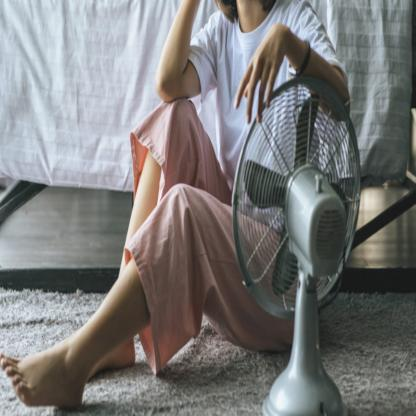fan: (221, 71, 366, 416)
